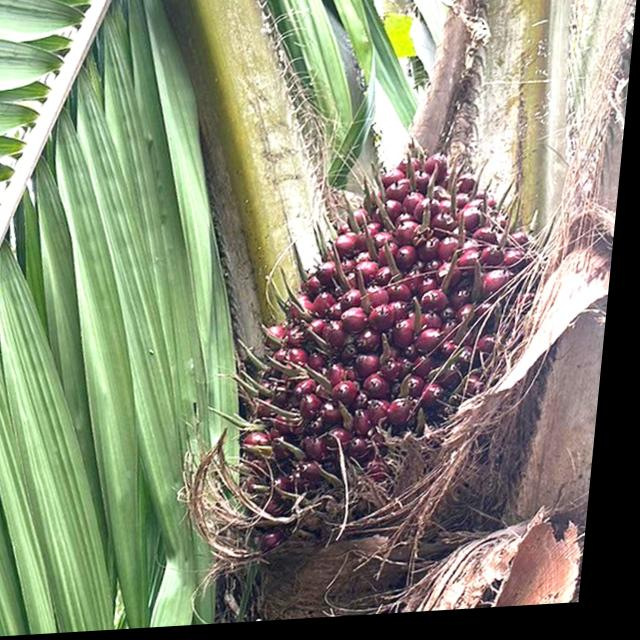ripe: (205, 108, 588, 585)
